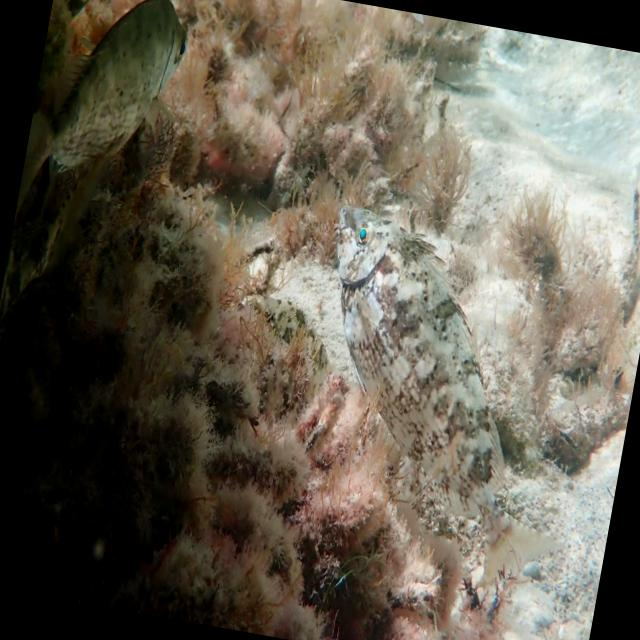Sokar Baligi: (260, 158, 630, 615), (16, 0, 211, 228)
